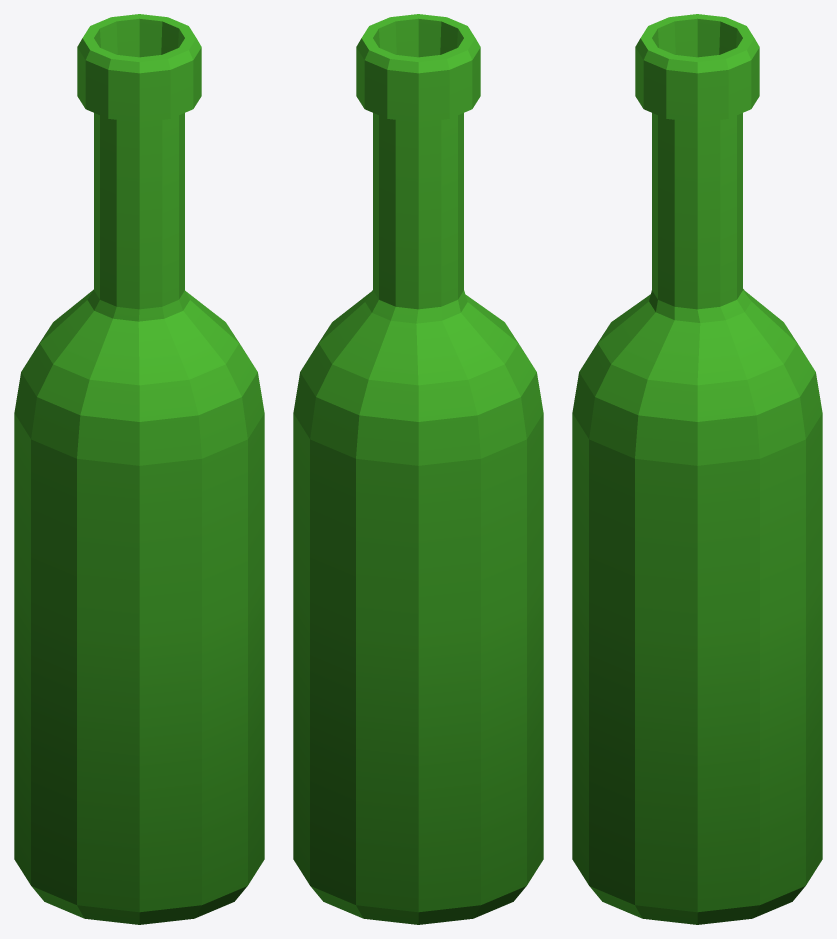
File: Bottle.fbx
The picture shows the model from 3 angles, left to right: view 1: azimuth 30°, elevation 25°; view 2: azimuth 150°, elevation 25°; view 3: azimuth 270°, elevation 25°; orthographic projection.
Parts seen in each view (by area): view 1: bottle; view 2: bottle; view 3: bottle.
Boxes of the visible parts, x1,y1,x2,y2 form: bottle: [14, 14, 264, 924]; bottle: [293, 14, 543, 924]; bottle: [572, 14, 822, 924].
Size of the model in its own units: 228 by 228 by 844.
